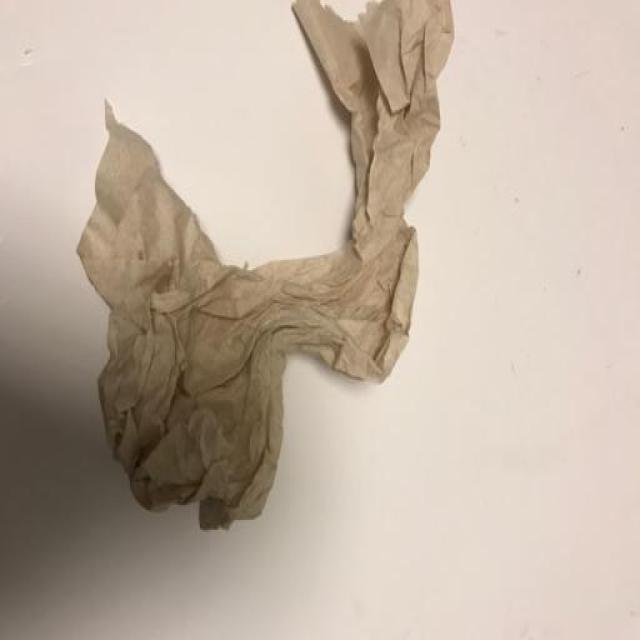Random Trash: (75, 0, 455, 533)
